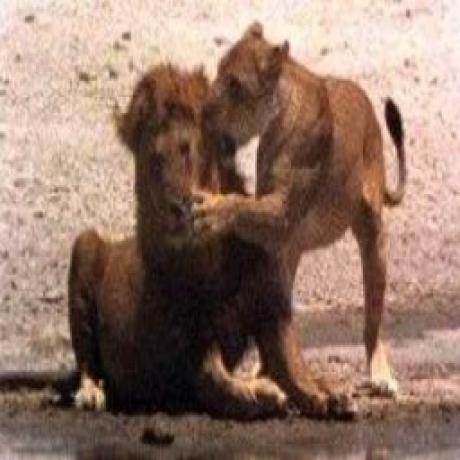Lion: (61, 71, 367, 424), (184, 12, 420, 404)
